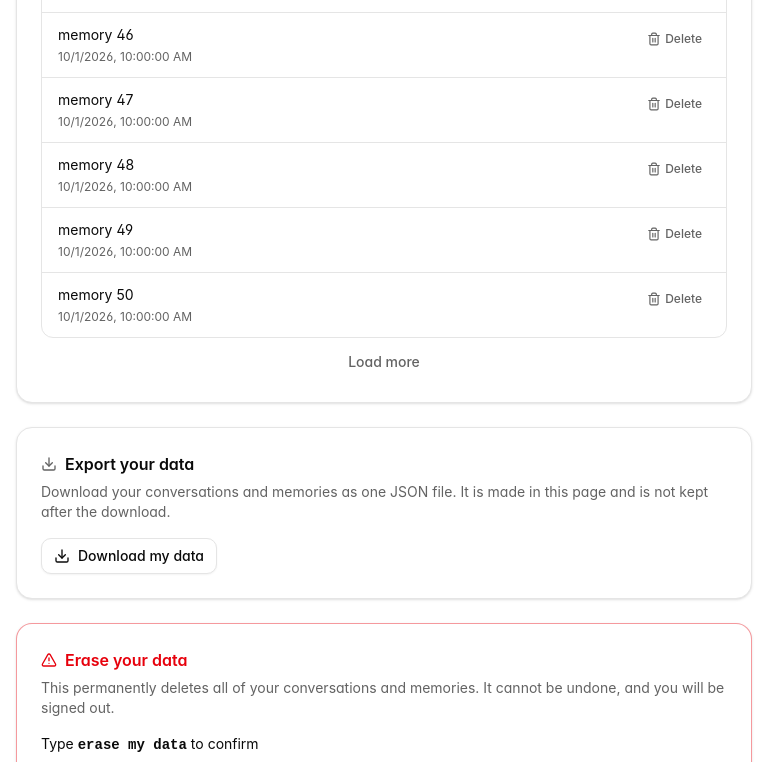
Scenario: memories › pages with Load more
The image size is (769, 762).
(page scrolled)
Click the button "Load more".
click(384, 362)  # box [41,346,727,378]
(page scrolled)
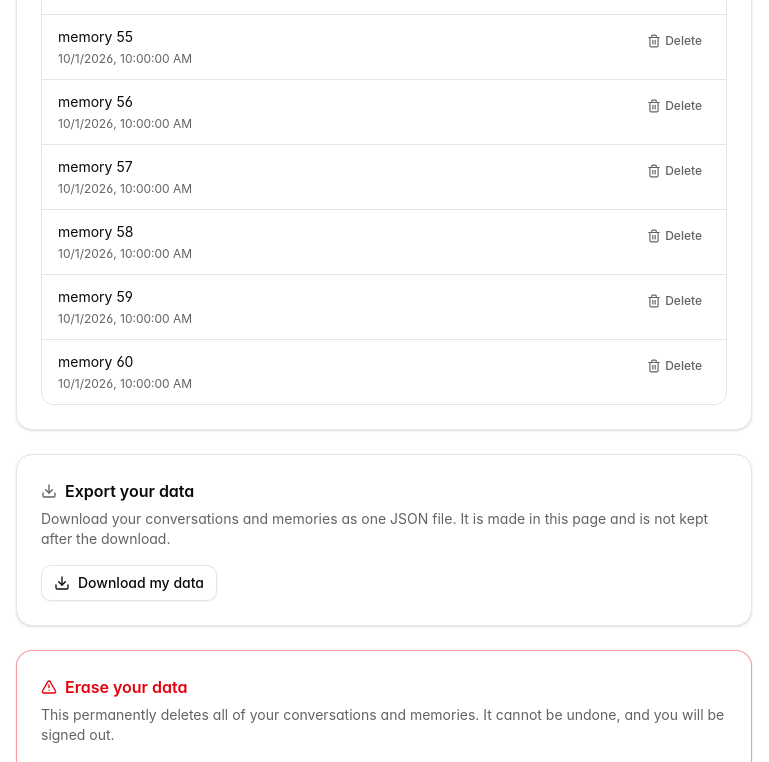
Expected: the text "memory 60" is shown, [58,353,133,370]
Expected: the button "Load more" is gone
